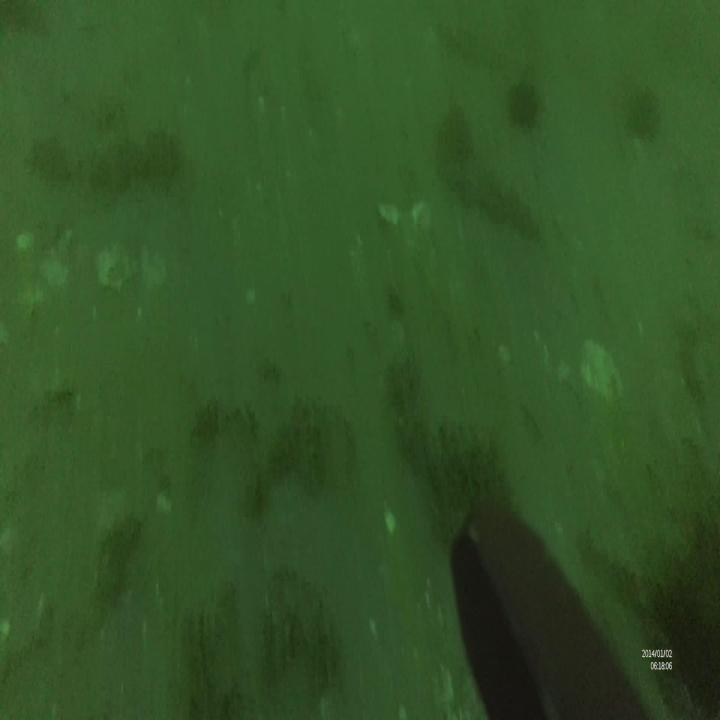holothurian: (505, 73, 540, 133)
